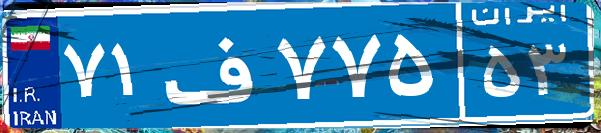1: (110, 28, 158, 105)
3: (525, 38, 570, 115)
5: (385, 28, 445, 110), (475, 38, 525, 113)
7: (273, 28, 330, 110), (330, 28, 385, 110), (57, 26, 110, 107)
ف: (158, 15, 273, 115)
